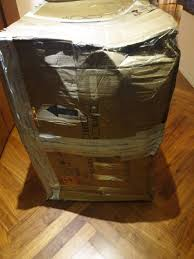damaged package: (34, 25, 185, 114), (38, 175, 79, 203)
